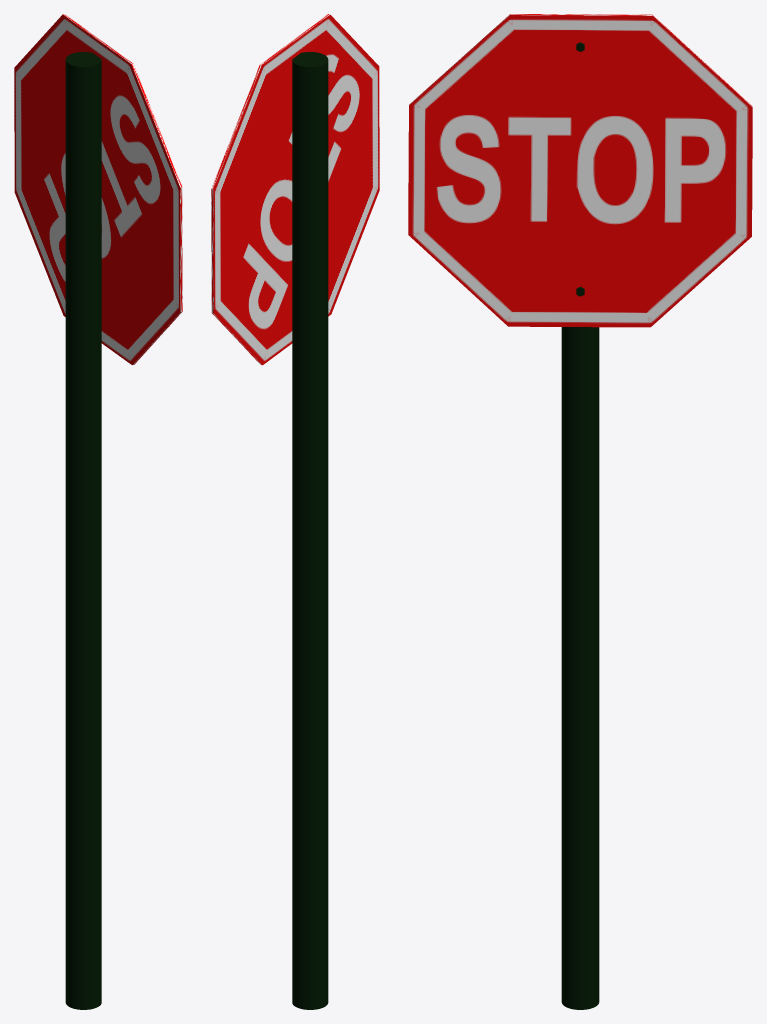
Rendered from Sign1.obj.
3 renders of one model, left to right at view 1: azimuth 30°, elevation 25°; view 2: azimuth 150°, elevation 25°; view 3: azimuth 270°, elevation 25°, orthographic. The views are drawn at different scales.
Visible parts, largest first — view 1: Object.4; view 2: Object.4; view 3: Object.4.
Boxes of the visible parts, left/top/right/bottom form: Object.4: left=14, top=14, right=182, bottom=1009; Object.4: left=211, top=14, right=379, bottom=1009; Object.4: left=408, top=14, right=752, bottom=1009.
Bounding box in the file's own units: 0.2202 × 5.9 × 1.85.
Materials: 3 (2 with a texture image).
